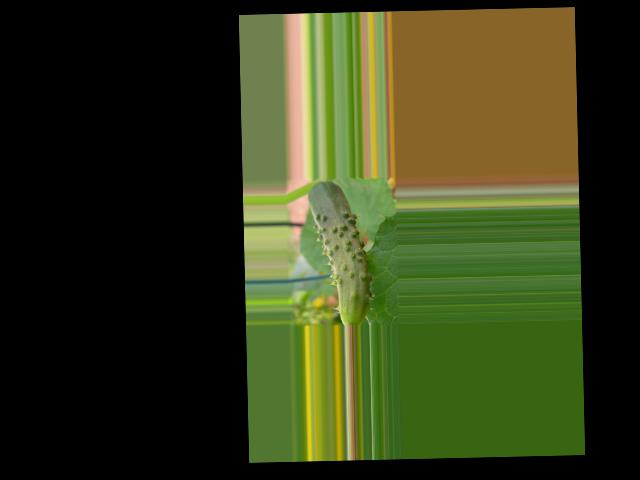cucumber: (308, 179, 373, 325)
